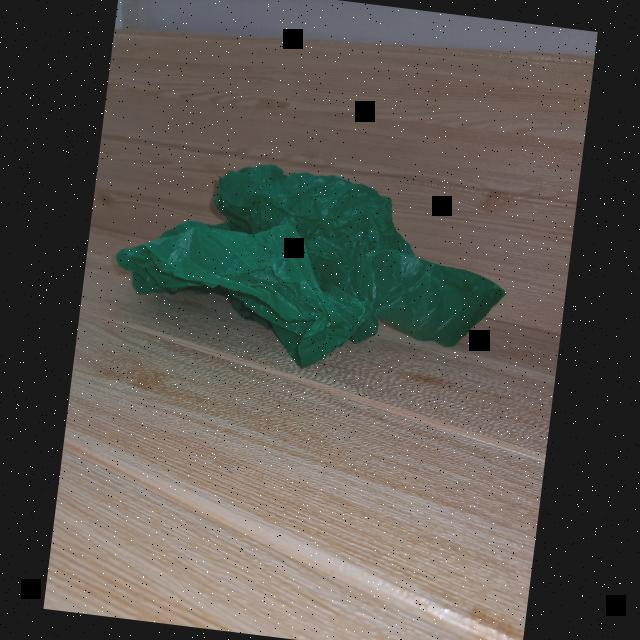plastic_bag: (103, 142, 520, 390)
